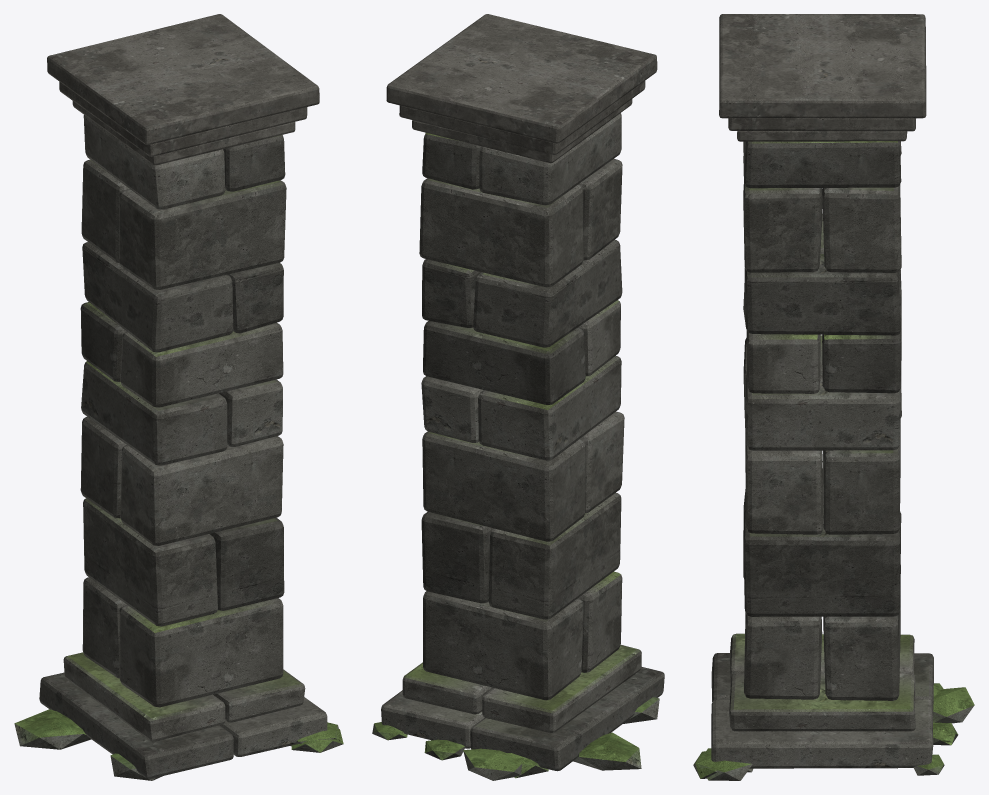
File: ER_Pile_Carree_Blocs_4m7.gltf
3 views of the same model, side by side, from view 1: azimuth 30°, elevation 25°; view 2: azimuth 150°, elevation 25°; view 3: azimuth 270°, elevation 25° (orthographic). The views are drawn at different scales.
Parts seen in each view (by area): view 1: ER_Pile_Carree_Blocs_4m7_P.001, ER_Pile_Carree_Blocs_4m7_MOUL.001, ER_Pile_Carree_Blocs_4m7_PM.001; view 2: ER_Pile_Carree_Blocs_4m7_P.001, ER_Pile_Carree_Blocs_4m7_MOUL.001, ER_Pile_Carree_Blocs_4m7_PM.001; view 3: ER_Pile_Carree_Blocs_4m7_P.001, ER_Pile_Carree_Blocs_4m7_MOUL.001, ER_Pile_Carree_Blocs_4m7_PM.001.
Part boxes in pixels (bbox=[...]): ER_Pile_Carree_Blocs_4m7_P.001: bbox=[39, 115, 327, 778]; ER_Pile_Carree_Blocs_4m7_MOUL.001: bbox=[47, 14, 319, 165]; ER_Pile_Carree_Blocs_4m7_PM.001: bbox=[14, 709, 343, 780]; ER_Pile_Carree_Blocs_4m7_P.001: bbox=[381, 113, 664, 771]; ER_Pile_Carree_Blocs_4m7_MOUL.001: bbox=[386, 14, 657, 163]; ER_Pile_Carree_Blocs_4m7_PM.001: bbox=[372, 697, 659, 780]; ER_Pile_Carree_Blocs_4m7_P.001: bbox=[711, 141, 933, 768]; ER_Pile_Carree_Blocs_4m7_MOUL.001: bbox=[719, 14, 926, 141]; ER_Pile_Carree_Blocs_4m7_PM.001: bbox=[693, 683, 974, 780].
Bounding box in the file's own units: 1.88 × 4.8 × 1.79.
3 materials, 3 textured.
